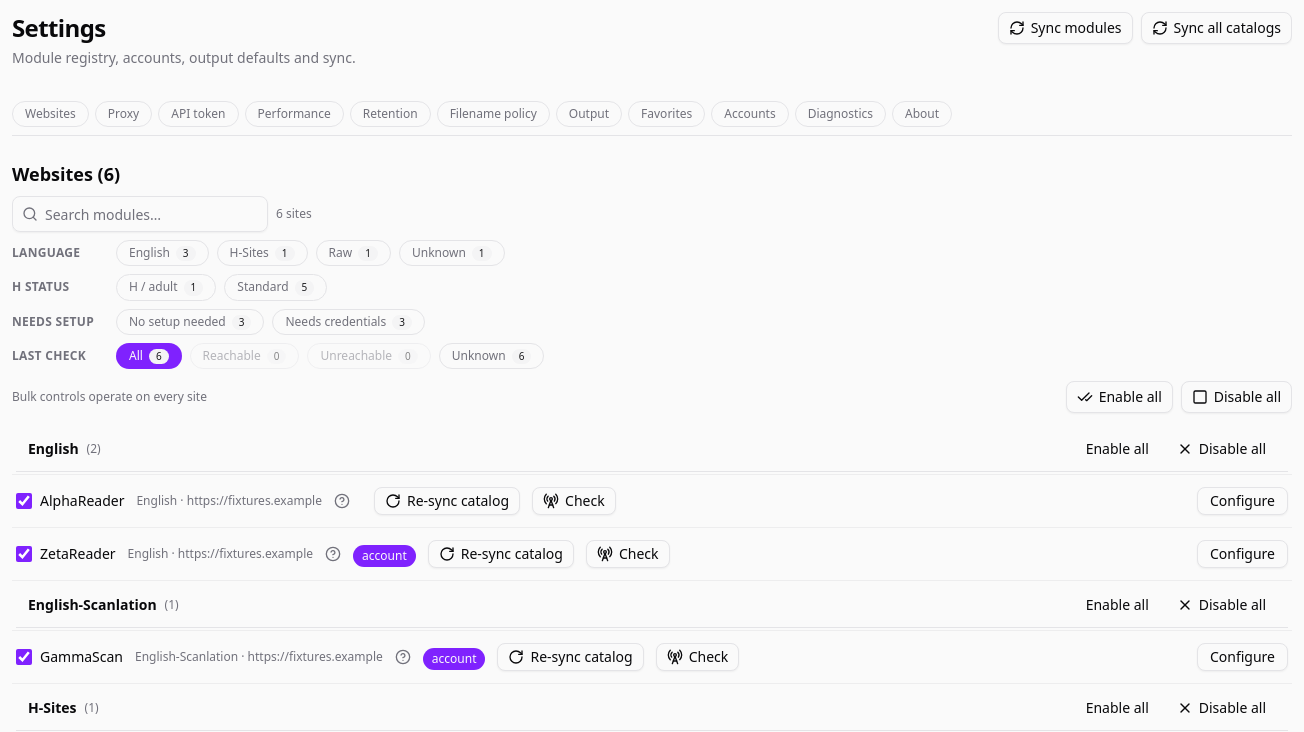
Test: Settings → Websites: facet chips + grouping › NEEDS SETUP "No setup needed" hides every credential site (the user-requested filter)
Click the button "No setup needed 3". click: (190, 322)
box: [116,309,264,335]
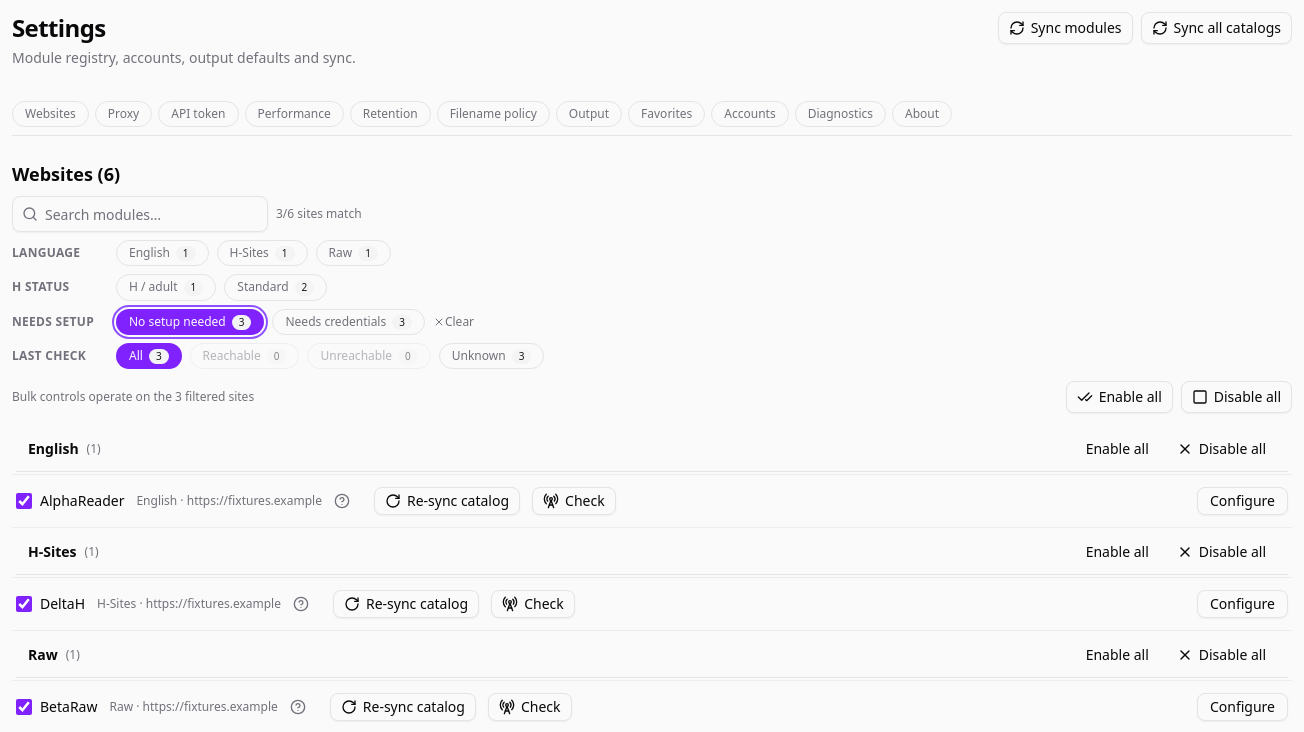
Check: the checkbox labelled "AlphaReader" is shown, box [16,493,32,509]
Check: the label labelled "GammaScan" is gone
